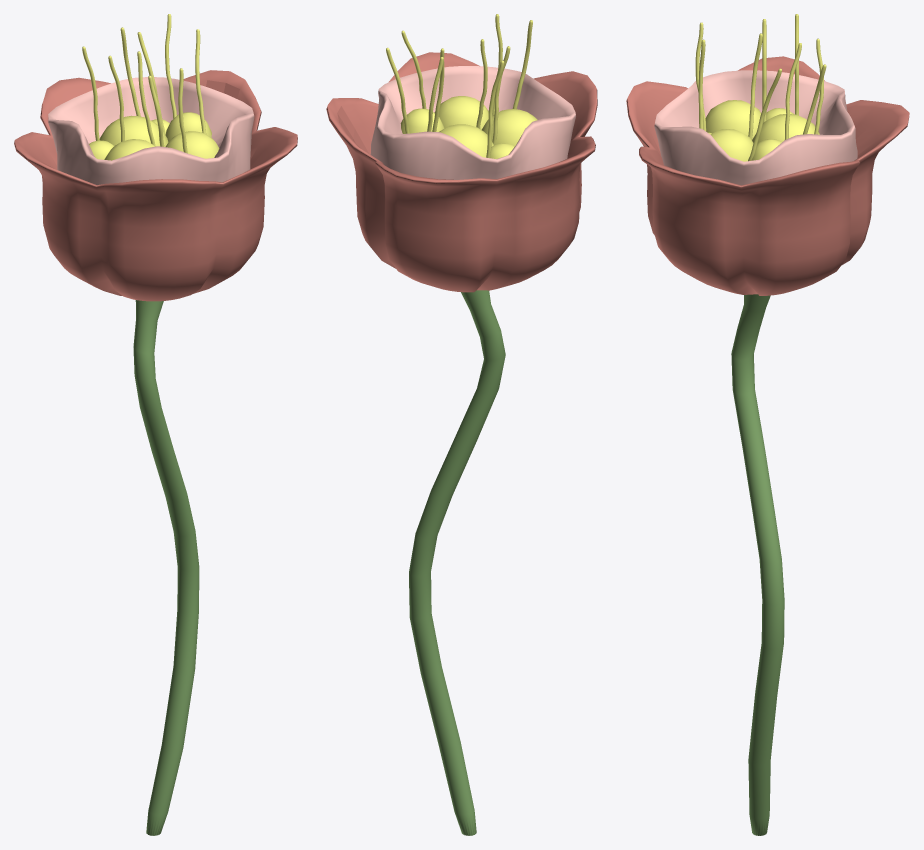
The model's file is flowermodel1easyuv.fbx.
The picture shows the model from 3 angles, left to right: view 1: azimuth 30°, elevation 25°; view 2: azimuth 150°, elevation 25°; view 3: azimuth 270°, elevation 25°; orthographic projection.
Parts seen in each view (by area): view 1: head, head2, stem, inside; view 2: head, head2, stem, inside; view 3: head, head2, stem, inside.
Boxes of the visible parts, x1,y1,x2,y2 form: head: (14, 70, 297, 301); head2: (48, 77, 254, 184); stem: (133, 300, 199, 835); inside: (82, 14, 219, 160); head: (326, 52, 597, 292); head2: (370, 66, 575, 179); stem: (409, 290, 505, 835); inside: (386, 14, 537, 158); head: (626, 56, 909, 295); head2: (654, 70, 857, 185); stem: (731, 294, 784, 835); inside: (695, 14, 826, 161).
Size of the model in its own units: 11.6 by 36.43 by 11.76.
